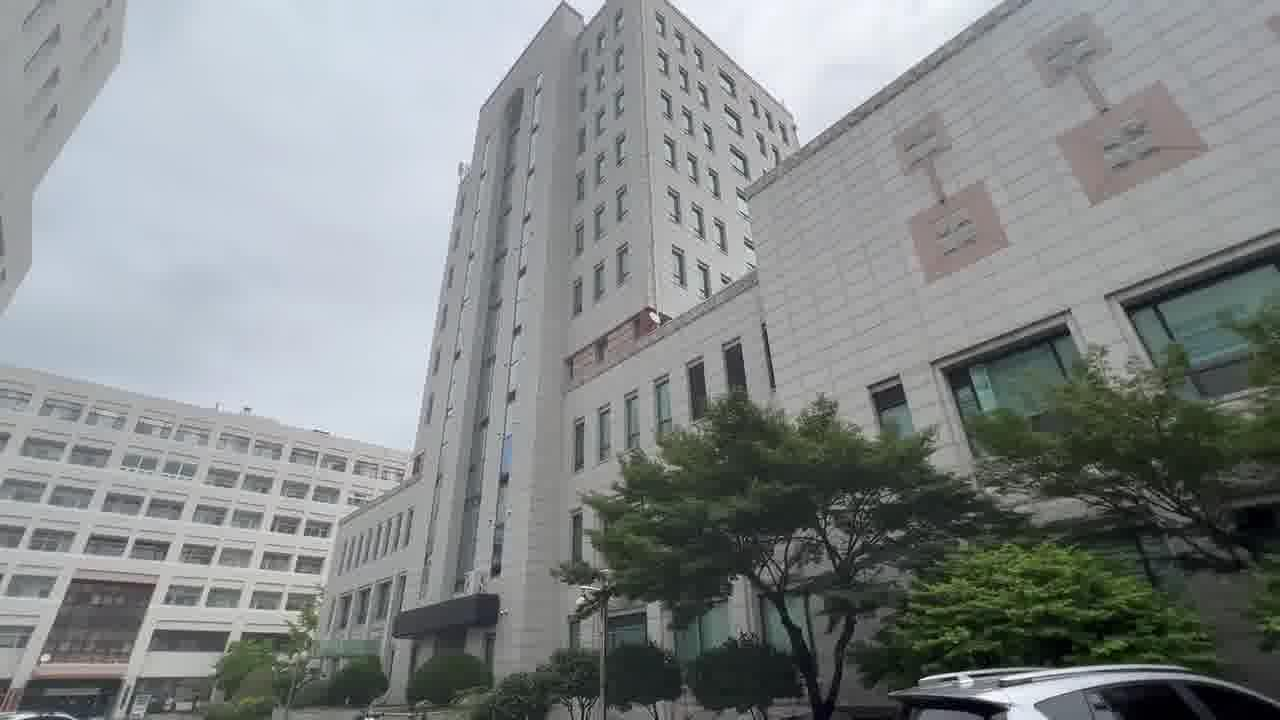building: (440, 3, 1162, 420)
